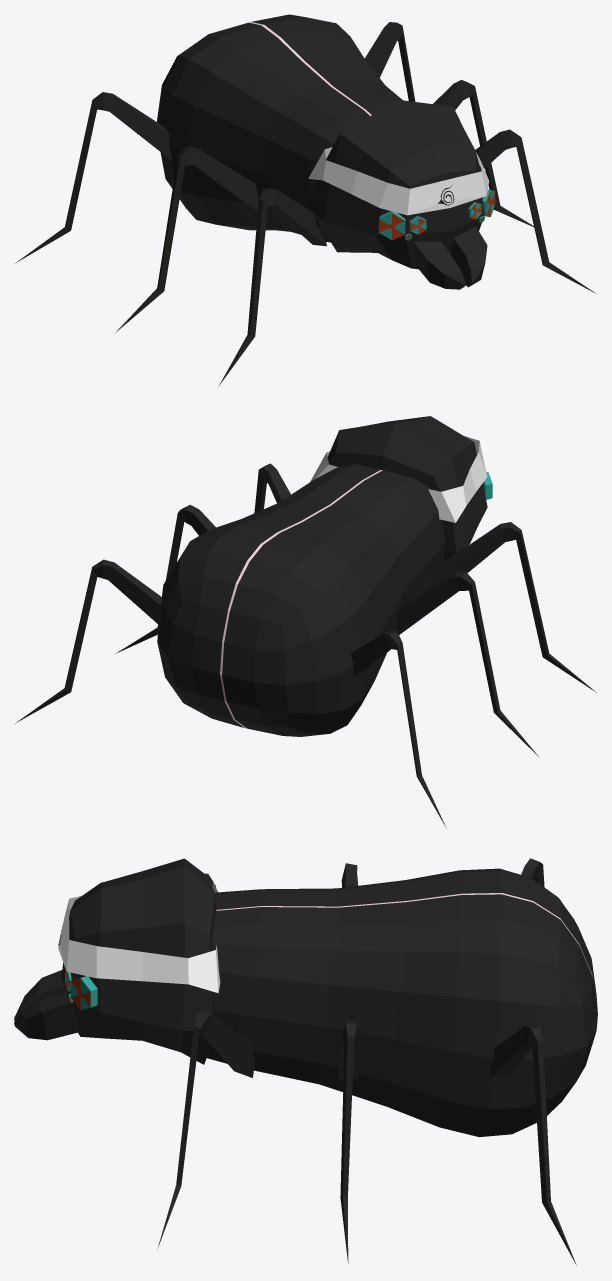
File: JukLVL0.fbx
3 views of the same model, one above another, from view 1: azimuth 30°, elevation 25°; view 2: azimuth 150°, elevation 25°; view 3: azimuth 270°, elevation 25° (orthographic). The views are drawn at different scales.
Parts seen in each view (by area): view 1: Cube, Cube.001, Cube.002, Cube.007, Cube.008, Cube.006, Cube.005, Cube.004, Cube.003, Cylinder; view 2: Cube, Cube.001, Cube.008, Cube.007, Cube.003, Cube.006, Cube.002, Cube.004, Cube.005; view 3: Cube, Cube.001, Cube.002, Cube.003, Cube.005, Cube.004, Cylinder.001.
Part boxes in pixels (bbox=[...]): Cube: bbox=[157, 14, 402, 242]; Cube.001: bbox=[312, 99, 487, 289]; Cube.002: bbox=[308, 147, 489, 215]; Cube.007: bbox=[115, 147, 258, 332]; Cube.008: bbox=[218, 188, 326, 386]; Cube.006: bbox=[15, 92, 172, 263]; Cube.005: bbox=[475, 129, 596, 293]; Cube.004: bbox=[433, 80, 533, 226]; Cube.003: bbox=[364, 22, 415, 101]; Cylinder: bbox=[379, 211, 405, 240]; Cube: bbox=[157, 464, 445, 736]; Cube.001: bbox=[327, 416, 487, 561]; Cube.008: bbox=[428, 522, 596, 692]; Cube.007: bbox=[396, 572, 539, 757]; Cube.003: bbox=[15, 559, 161, 723]; Cube.006: bbox=[351, 630, 446, 827]; Cube.002: bbox=[310, 436, 487, 522]; Cube.004: bbox=[115, 505, 215, 653]; Cube.005: bbox=[254, 463, 290, 513]; Cube: bbox=[206, 868, 597, 1137]; Cube.001: bbox=[14, 858, 216, 1064]; Cube.002: bbox=[58, 884, 220, 993]; Cube.003: bbox=[489, 1026, 576, 1265]; Cube.005: bbox=[157, 1010, 254, 1248]; Cube.004: bbox=[338, 1021, 363, 1263]; Cylinder.001: bbox=[70, 976, 97, 1010].
Bounding box in the file's own units: 483 × 248 × 476.
